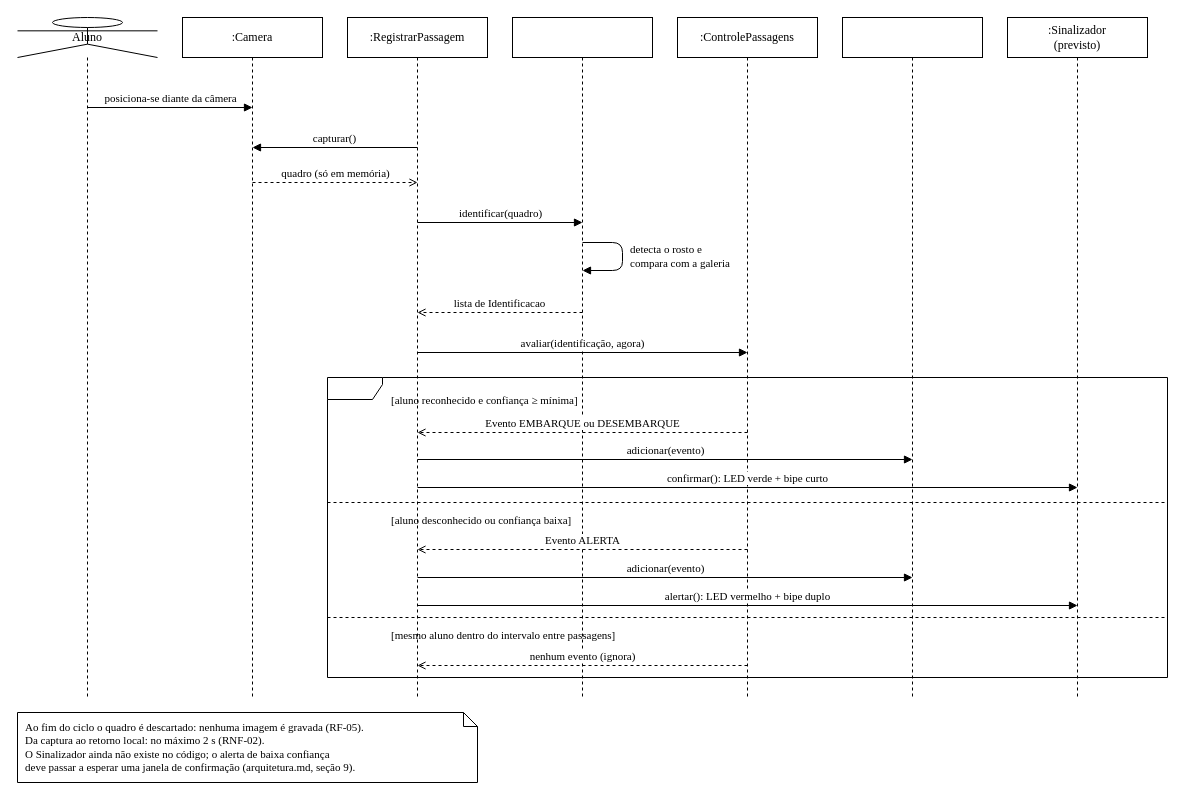
This 1186x800 diagram has some shape labels left out. The shapes that lost their labels are listed below. From the top down, each one's box as (x1, y1, x2, y2) in pixels, then its label:
(512, 16, 652, 698): :Reconhecedor
(842, 16, 982, 698): :FilaEventos
(326, 376, 1168, 678): alt
